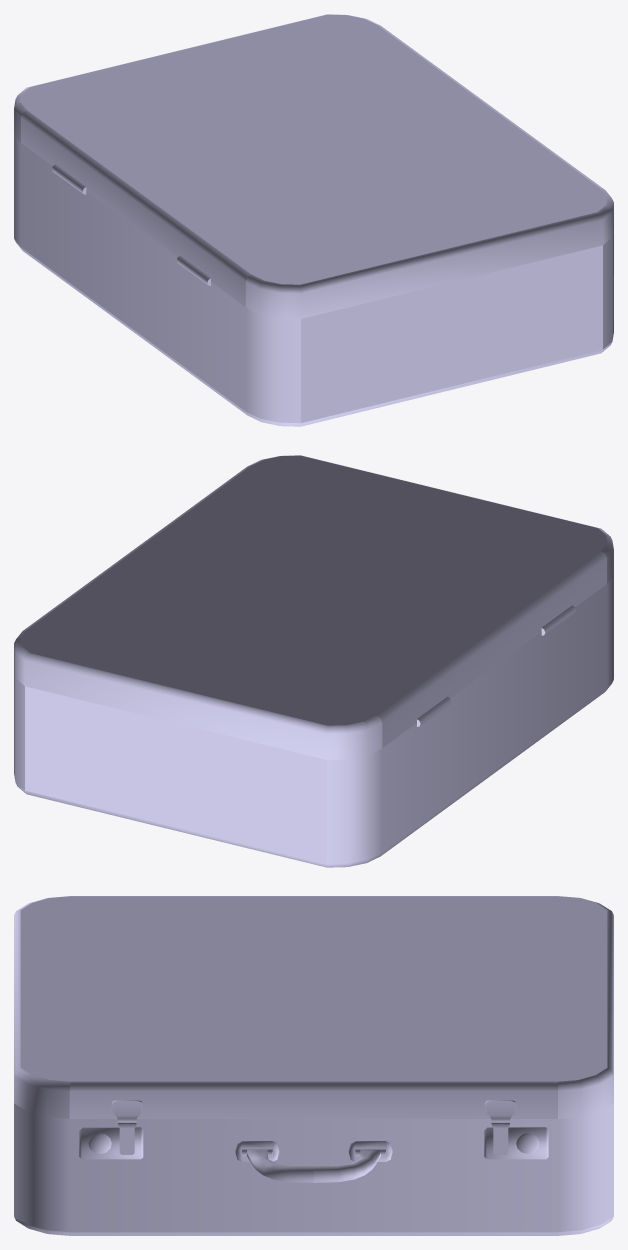
File: 5_material26_valigia.fbx
3 renders of one model, top to bottom at view 1: azimuth 30°, elevation 25°; view 2: azimuth 150°, elevation 25°; view 3: azimuth 270°, elevation 25°, orthographic. The views are drawn at different scales.
Parts seen in each view (by area): view 1: 5_material26_valigia; view 2: 5_material26_valigia; view 3: 5_material26_valigia.
Boxes of the visible parts, <box> form: 5_material26_valigia: <box>14,14,613,426</box>; 5_material26_valigia: <box>14,455,613,867</box>; 5_material26_valigia: <box>14,896,613,1235</box>.
Bounding box in the file's own units: 387 × 125 × 447.
